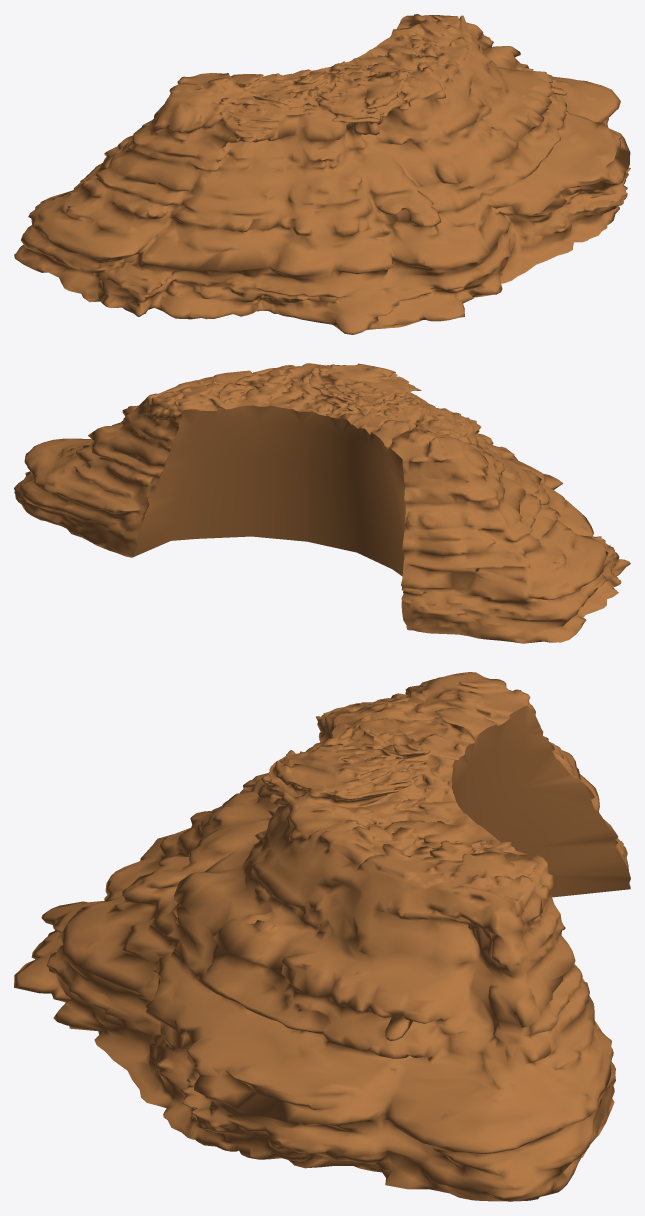
File: MSH_Rocks_Cliff_32_c.FBX
3 views of the same model, one above another, from view 1: azimuth 30°, elevation 25°; view 2: azimuth 150°, elevation 25°; view 3: azimuth 270°, elevation 25° (orthographic). The views are drawn at different scales.
Visible parts, largest first — view 1: MESH_LOD0; view 2: MESH_LOD0, CAP_LOD0; view 3: MESH_LOD0, CAP_LOD0.
Part boxes in pixels (x1=…): MESH_LOD0: x1=14, y1=14, x2=630, y2=334; MESH_LOD0: x1=14, y1=363, x2=630, y2=643; CAP_LOD0: x1=132, y1=405, x2=405, y2=576; MESH_LOD0: x1=14, y1=672, x2=630, y2=1201; CAP_LOD0: x1=451, y1=705, x2=630, y2=897.
Size of what is drawn, in the model's own units: 507 by 131 by 311.
